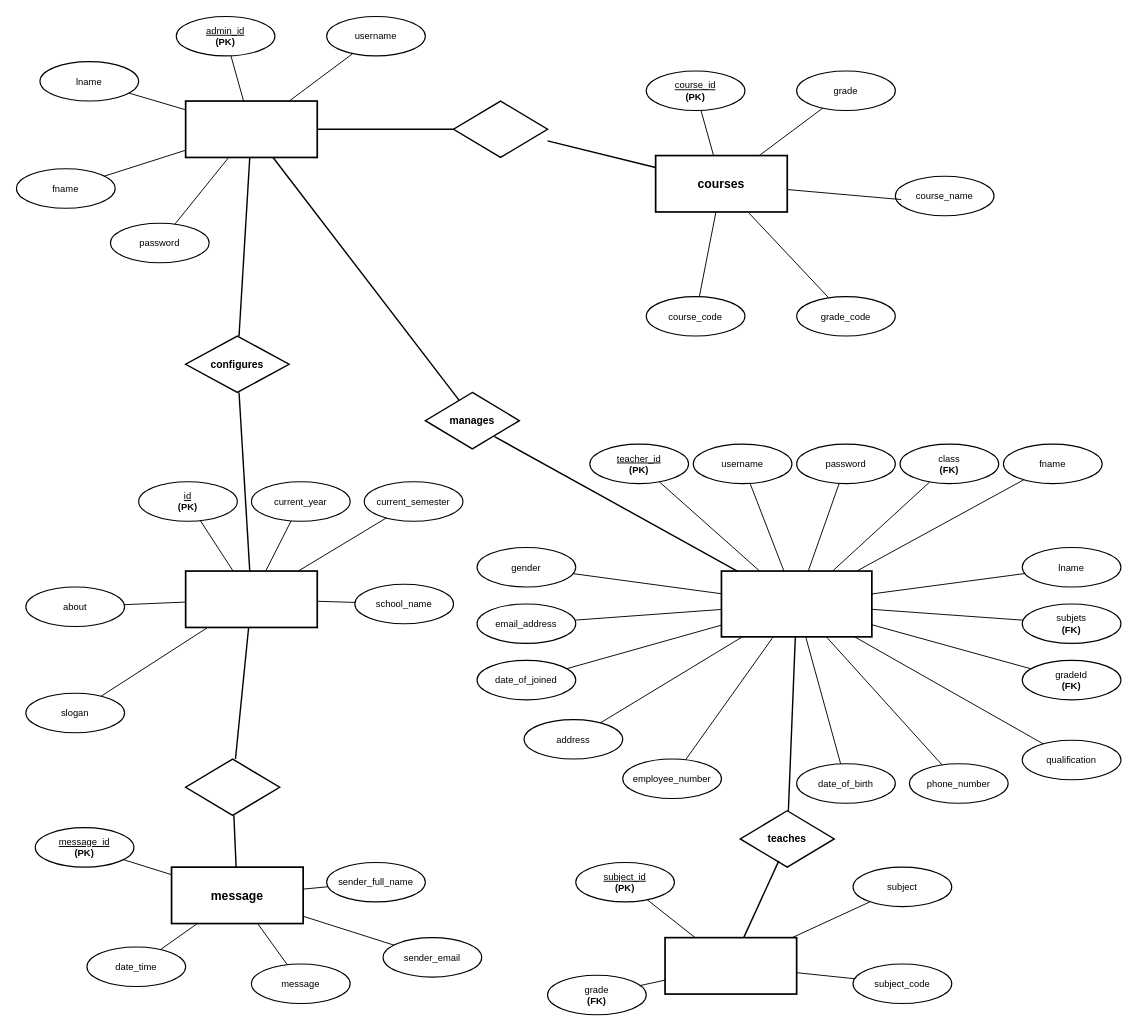
This 1138x1032 diagram has some shape labels left out. The shapes that lost their labels are listed below. From the top down, each one's centre as x and y in pixels, then its label:
At [251,129]: "admin".
At [500,129]: "defines".
At [251,599]: "setting".
At [796,603]: "teacher".
At [232,787]: "reviews".
At [730,965]: "subjects".
